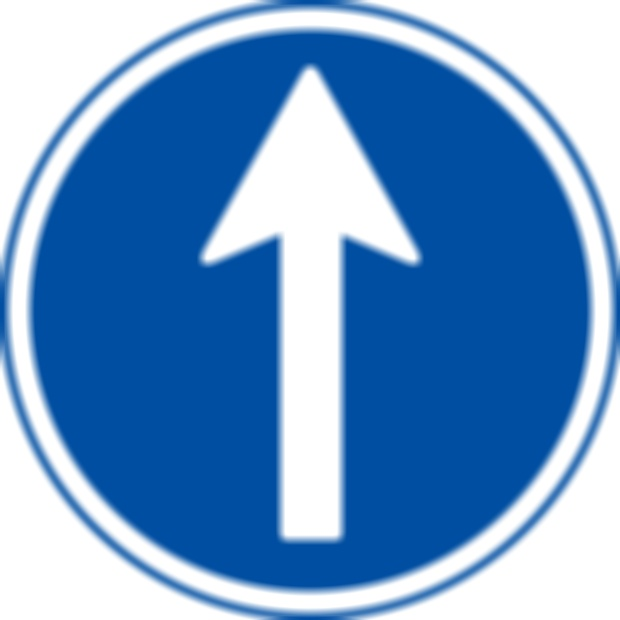Direction_sign: (10, 7, 616, 616)
